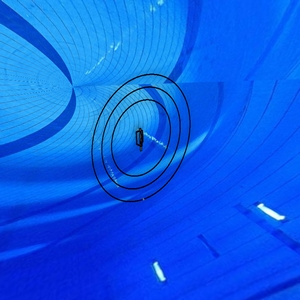circle: (87, 72, 194, 205)
submarine: (134, 122, 148, 155)
